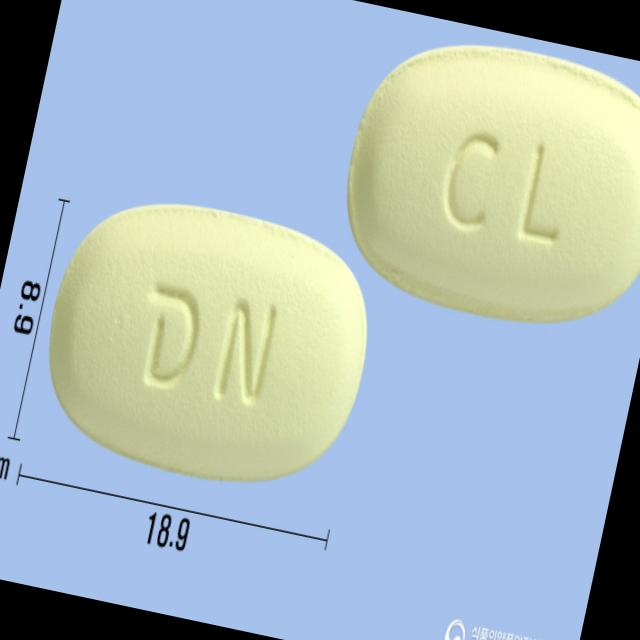Clamacin: (21, 170, 394, 516), (318, 13, 640, 362)
